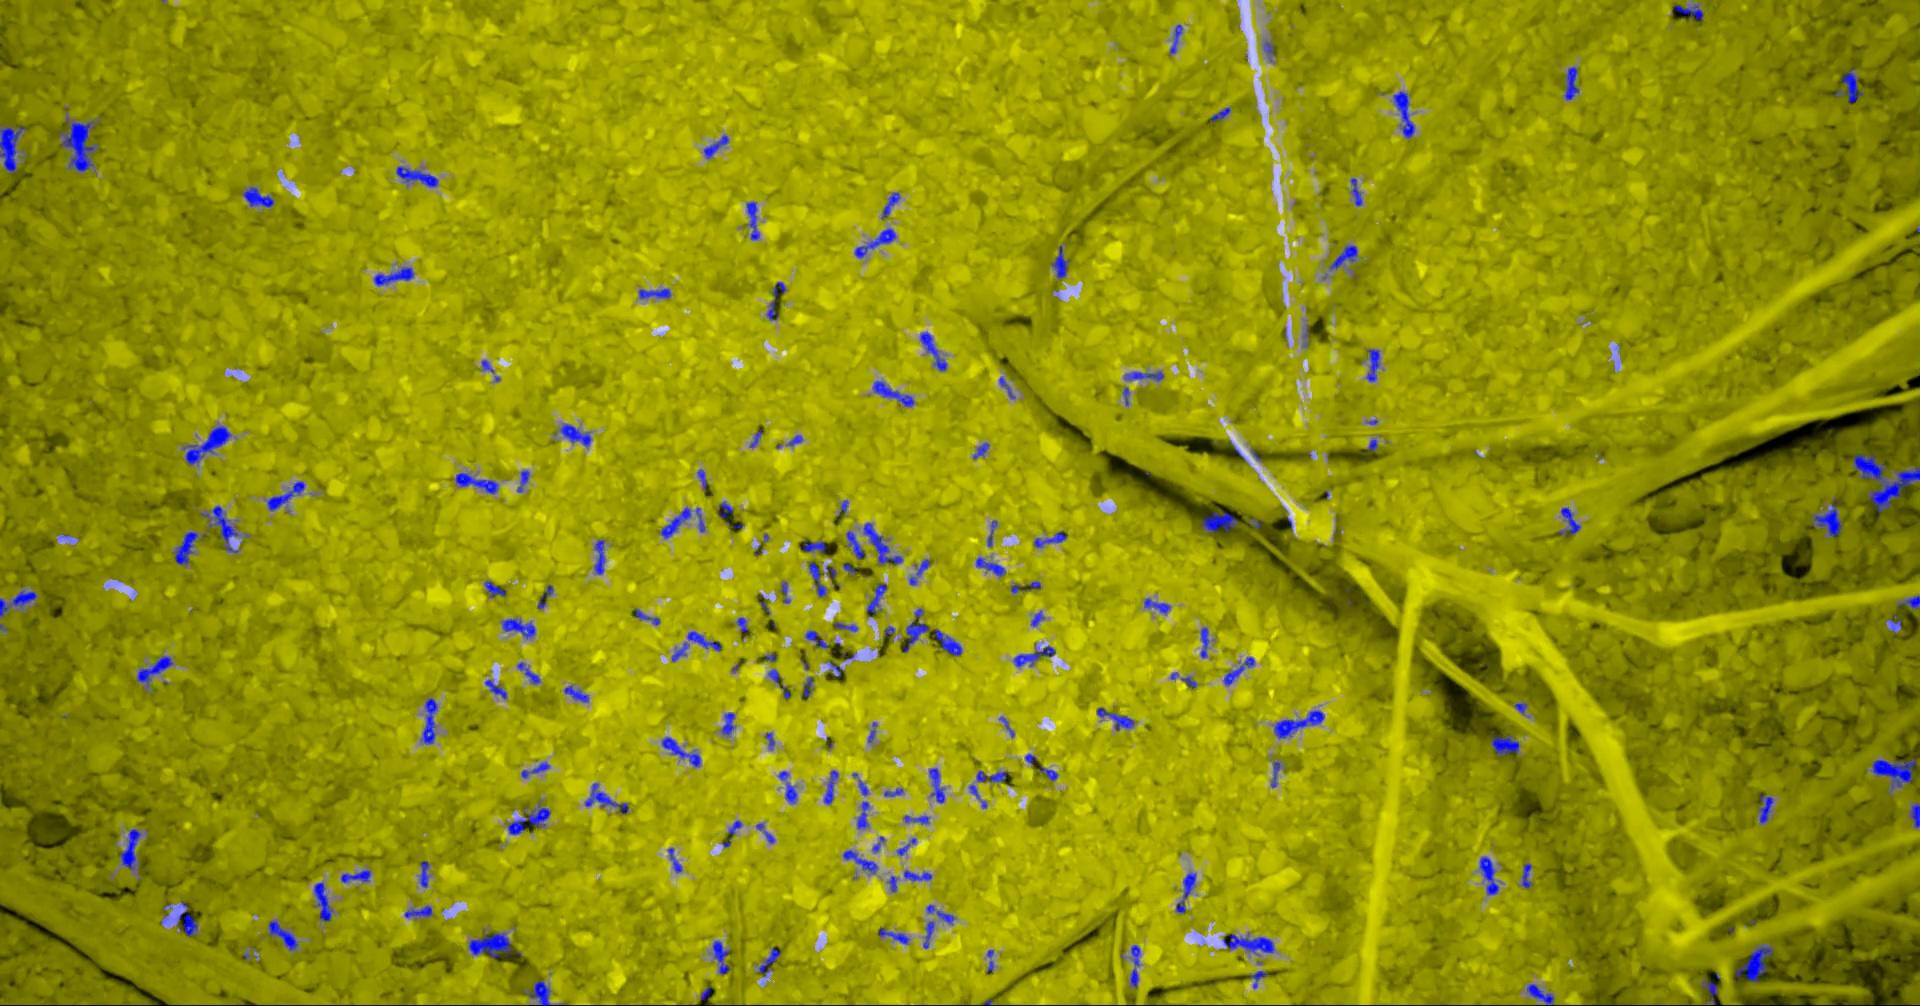ant: (58, 118, 95, 171), (182, 426, 231, 464), (201, 506, 237, 553), (863, 522, 902, 564), (1870, 758, 1916, 791), (670, 631, 721, 661), (1272, 710, 1324, 738), (1735, 945, 1773, 982), (584, 782, 629, 813), (507, 804, 550, 835), (1811, 497, 1841, 536), (855, 227, 895, 257), (0, 126, 25, 171), (265, 480, 303, 511), (662, 735, 700, 766), (872, 380, 914, 406), (136, 655, 171, 686), (469, 932, 510, 958), (1223, 934, 1274, 954), (919, 332, 946, 370), (1393, 91, 1415, 137), (267, 920, 298, 950), (1832, 69, 1862, 102), (0, 589, 36, 616), (660, 507, 690, 539), (1223, 655, 1255, 685), (174, 531, 202, 564), (455, 473, 498, 493), (1096, 708, 1134, 730), (842, 848, 877, 873), (395, 166, 437, 187), (902, 620, 928, 652), (1013, 645, 1054, 666), (119, 828, 140, 869), (1175, 873, 1195, 912), (1200, 511, 1237, 532), (933, 627, 961, 655), (420, 697, 437, 743), (373, 265, 413, 285), (312, 882, 331, 921), (766, 281, 785, 319), (559, 423, 590, 446), (1479, 856, 1498, 894), (177, 901, 197, 936), (523, 979, 550, 1005), (1330, 245, 1357, 269), (866, 583, 886, 616), (243, 185, 273, 207), (757, 948, 780, 976), (502, 619, 535, 638), (777, 770, 796, 803), (808, 561, 825, 596), (712, 940, 730, 974), (1558, 507, 1580, 535), (1526, 983, 1554, 1005), (1490, 734, 1519, 754), (1051, 245, 1069, 278), (703, 133, 728, 158), (1032, 531, 1065, 547), (928, 767, 943, 803), (745, 201, 759, 239), (926, 904, 954, 923), (823, 770, 838, 804), (975, 558, 1004, 575), (881, 192, 900, 218), (846, 531, 863, 559), (516, 662, 538, 683), (723, 821, 742, 846), (877, 927, 909, 942), (1672, 4, 1703, 19), (1564, 66, 1578, 99), (521, 762, 549, 779), (1757, 794, 1773, 823), (1143, 597, 1170, 614), (1129, 944, 1139, 987), (563, 685, 588, 701), (484, 680, 505, 699), (634, 608, 660, 624), (1366, 349, 1379, 381), (975, 770, 1006, 782), (756, 823, 775, 843), (805, 630, 828, 647), (404, 904, 430, 918), (1170, 24, 1182, 53), (340, 869, 370, 882), (717, 500, 733, 525), (537, 584, 552, 608), (1702, 981, 1717, 1005), (594, 539, 604, 574), (1247, 970, 1267, 988), (998, 376, 1015, 398), (1350, 177, 1363, 205), (667, 847, 681, 873), (1124, 371, 1163, 380), (856, 801, 869, 828), (897, 837, 916, 855), (922, 921, 935, 948), (801, 539, 825, 553), (637, 288, 670, 298), (1209, 105, 1230, 121), (484, 580, 505, 596), (985, 520, 997, 546), (1897, 594, 1919, 608), (721, 713, 734, 735), (903, 870, 931, 880), (697, 469, 709, 493), (516, 470, 528, 492), (971, 442, 988, 459), (419, 860, 429, 887), (1037, 766, 1057, 780), (695, 507, 705, 532), (903, 814, 928, 824), (1521, 862, 1531, 888), (916, 558, 930, 575), (833, 621, 857, 631), (1200, 626, 1208, 658), (1270, 761, 1279, 788), (1030, 610, 1044, 626), (1888, 615, 1901, 633), (1910, 803, 1919, 827), (828, 661, 842, 676), (801, 676, 811, 696), (985, 949, 993, 972), (737, 617, 747, 633), (1263, 41, 1274, 55)
